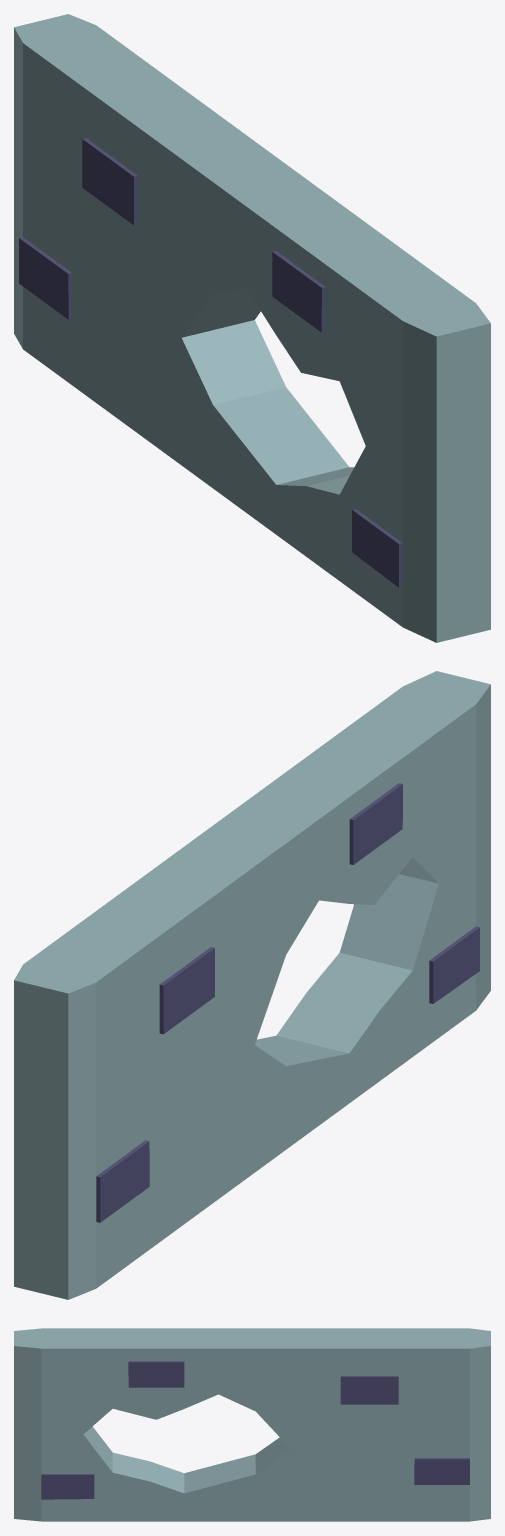
The model's file is CastleWall_normal_hole.fbx.
The picture shows the model from 3 angles, top to bottom: view 1: azimuth 30°, elevation 25°; view 2: azimuth 150°, elevation 25°; view 3: azimuth 270°, elevation 25°; orthographic projection. The views are drawn at different scales.
Visible parts, largest first — view 1: Куб; view 2: Куб; view 3: Куб.
Part boxes in pixels (box(x1,y1,x2,y2)): Куб: box(14, 14, 490, 642); Куб: box(14, 671, 490, 1299); Куб: box(14, 1328, 490, 1521).
Size of the model in its own units: 111 by 400 by 1000.
